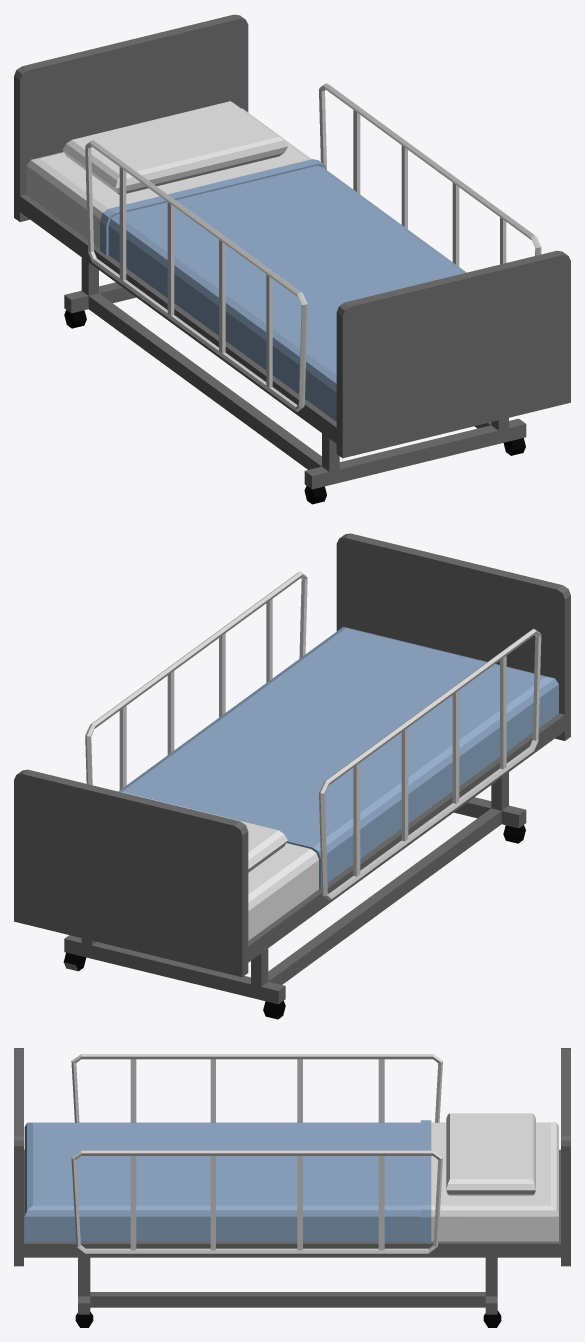
The model's file is H_Bed_2.fbx.
The picture shows the model from 3 angles, top to bottom: view 1: azimuth 30°, elevation 25°; view 2: azimuth 150°, elevation 25°; view 3: azimuth 270°, elevation 25°; orthographic projection. The views are drawn at different scales.
Visible parts, largest first — view 1: H_Bed_2; view 2: H_Bed_2; view 3: H_Bed_2.
Part boxes in pixels (bbox=[...]): H_Bed_2: bbox=[14, 14, 570, 504]; H_Bed_2: bbox=[14, 533, 570, 1019]; H_Bed_2: bbox=[14, 1048, 570, 1327].
Bounding box in the file's own units: 590 × 1404 × 533.
